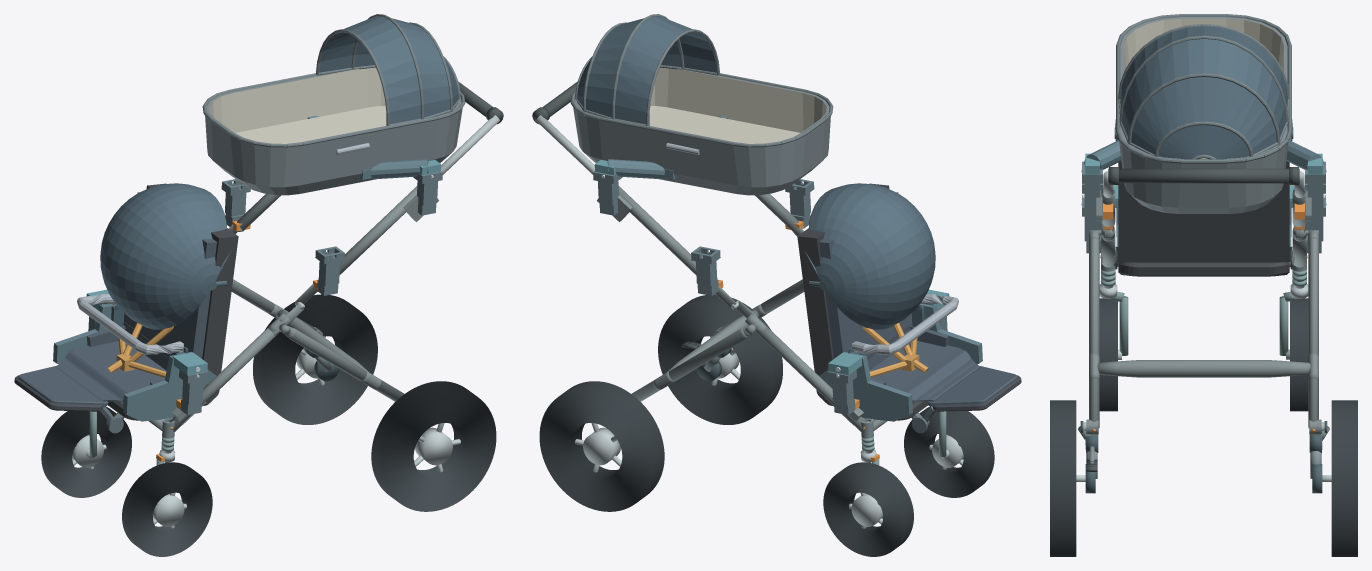
Rendered from D05_w550_state1_wheel_L.glb.
3 views of the same model, side by side, from view 1: azimuth 30°, elevation 25°; view 2: azimuth 150°, elevation 25°; view 3: azimuth 270°, elevation 25° (orthographic). The views are drawn at different scales.
Parts seen in each view (by area): view 1: D05_Upper, D05_Lower, RL_tire.002, RR_tire.002, FL_tire.002, FR_tire.002, D05_Lower_Mount_L, V46_rear_leg_-1.003, main_lower_-1.003, D05_Upper_Mount_H, main_upper_-1.003, Universal_Cabin_Receiver_M_-1 (+9 smaller); view 2: D05_Upper, D05_Lower, RR_tire.002, RL_tire.002, FR_tire.002, FL_tire.002, D05_Lower_Mount_L, V46_rear_leg_1.003, main_lower_1.003, D05_Upper_Mount_H, main_upper_1.003, Universal_Cabin_Receiver_M_1 (+9 smaller); view 3: D05_Upper, D05_Lower, RL_tire.002, RR_tire.002, V46_rearbar.003, round_handle.002, FL_tire.002, FR_tire.002, V46_rear_leg_1.003, V46_rear_leg_-1.003, D05_Upper_Mount_H, Universal_Cabin_Receiver_H_1 (+6 smaller).
Part boxes in pixels (x1,y1,x2,y2): D05_Upper: [202, 14, 465, 195]; D05_Lower: [14, 183, 238, 433]; RL_tire.002: [371, 381, 496, 511]; RR_tire.002: [253, 294, 377, 424]; FL_tire.002: [122, 462, 212, 556]; FR_tire.002: [41, 406, 131, 497]; D05_Lower_Mount_L: [53, 289, 216, 421]; V46_rear_leg_-1.003: [287, 328, 404, 401]; main_lower_-1.003: [169, 328, 279, 432]; D05_Upper_Mount_H: [307, 115, 441, 179]; main_upper_-1.003: [339, 186, 417, 274]; Universal_Cabin_Receiver_M_-1: [315, 246, 344, 295]; D05_Upper: [570, 14, 833, 195]; D05_Lower: [797, 183, 1021, 433]; RR_tire.002: [539, 381, 664, 511]; RL_tire.002: [658, 294, 782, 424]; FR_tire.002: [823, 462, 913, 556]; FL_tire.002: [904, 406, 994, 497]; D05_Lower_Mount_L: [819, 289, 982, 421]; V46_rear_leg_1.003: [631, 328, 748, 401]; main_lower_1.003: [756, 328, 866, 432]; D05_Upper_Mount_H: [594, 115, 728, 179]; main_upper_1.003: [618, 186, 696, 274]; Universal_Cabin_Receiver_M_1: [691, 246, 720, 295]; D05_Upper: [1116, 14, 1291, 213]; D05_Lower: [1114, 119, 1293, 276]; RL_tire.002: [1050, 400, 1076, 556]; RR_tire.002: [1331, 400, 1357, 556]; V46_rearbar.003: [1097, 360, 1310, 377]; round_handle.002: [1108, 168, 1299, 183]; FL_tire.002: [1099, 298, 1117, 411]; FR_tire.002: [1290, 298, 1308, 411]; V46_rear_leg_1.003: [1308, 237, 1318, 428]; V46_rear_leg_-1.003: [1089, 237, 1099, 428]; D05_Upper_Mount_H: [1081, 140, 1326, 174]; Universal_Cabin_Receiver_H_1: [1305, 161, 1325, 219].
Bounding box in the file's own units: 1.36 × 1.33 × 0.7071.
